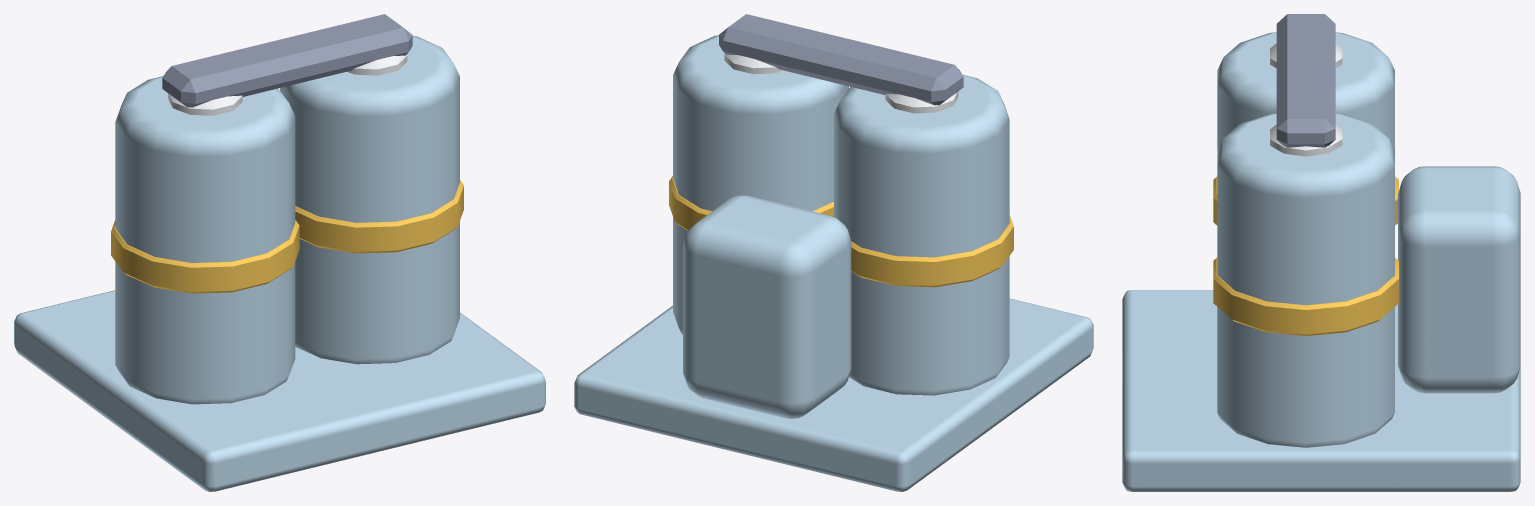
The model's file is R4X_Battery.glb.
3 renders of one model, left to right at view 1: azimuth 30°, elevation 25°; view 2: azimuth 150°, elevation 25°; view 3: azimuth 270°, elevation 25°, orthographic. The views are drawn at different scales.
Visible parts, largest first — view 1: R4X_Battery_Body; view 2: R4X_Battery_Body; view 3: R4X_Battery_Body.
Part boxes in pixels (x1=…): R4X_Battery_Body: x1=14, y1=14, x2=545, y2=491; R4X_Battery_Body: x1=574, y1=14, x2=1093, y2=491; R4X_Battery_Body: x1=1122, y1=14, x2=1520, y2=491.
Size of the model in its own units: 0.52 by 0.497 by 0.52.
